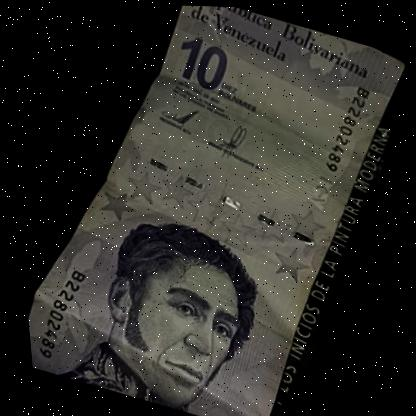ten-front-vef: (0, 0, 414, 416)
